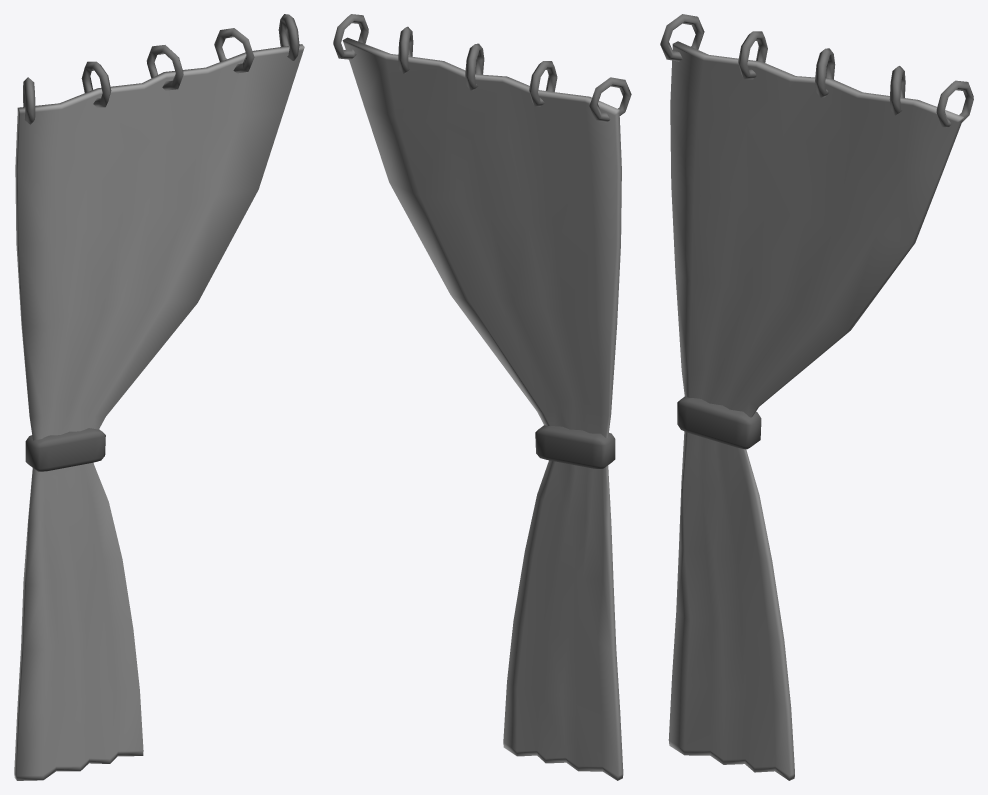
Rendered from curtain_017.fbx.
The picture shows the model from 3 angles, left to right: view 1: azimuth 30°, elevation 25°; view 2: azimuth 150°, elevation 25°; view 3: azimuth 330°, elevation 25°; orthographic projection. The views are drawn at different scales.
Visible parts, largest first — view 1: curtain_017; view 2: curtain_017; view 3: curtain_017.
Part boxes in pixels (x1,y1,x2,y2): curtain_017: [14, 14, 304, 780]; curtain_017: [333, 14, 631, 780]; curtain_017: [660, 14, 973, 780].
Bounding box in the file's own units: 147 × 22.83 × 348.
